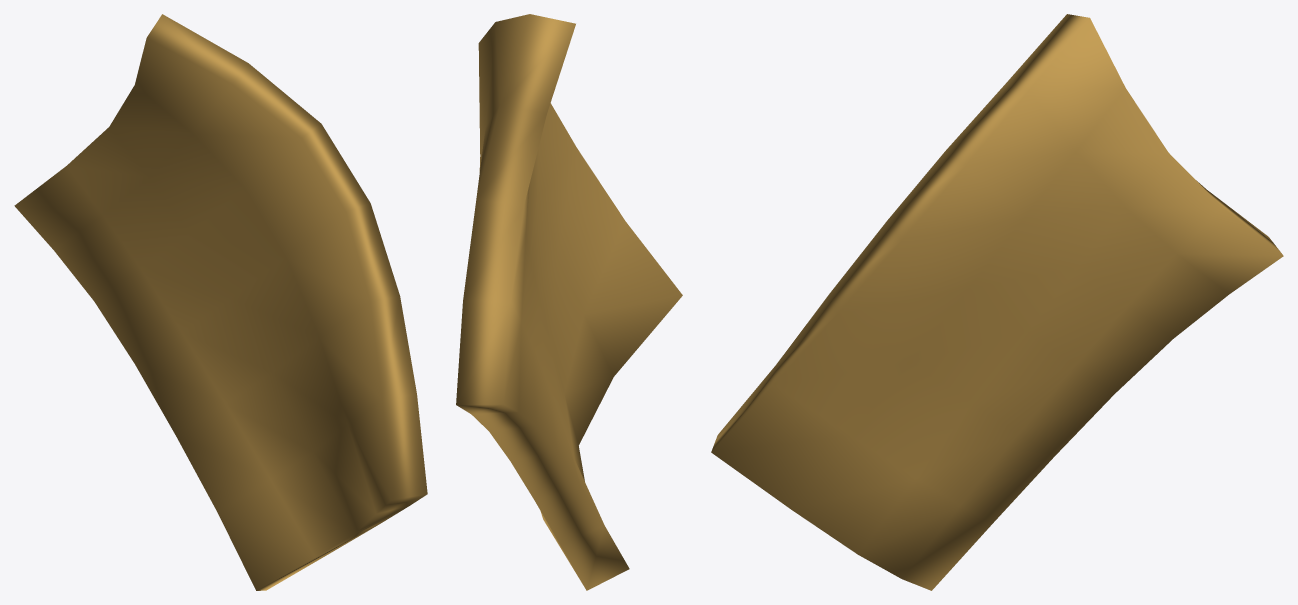
The picture shows the model from 3 angles, left to right: view 1: azimuth 30°, elevation 25°; view 2: azimuth 150°, elevation 25°; view 3: azimuth 270°, elevation 25°; orthographic projection. The views are drawn at different scales.
Visible parts, largest first — view 1: 左侧胸锁后韧带; view 2: 左侧胸锁后韧带; view 3: 左侧胸锁后韧带.
Boxes of the visible parts, x1,y1,x2,y2 form: 左侧胸锁后韧带: (14, 14, 427, 590); 左侧胸锁后韧带: (456, 14, 682, 590); 左侧胸锁后韧带: (711, 14, 1283, 590).
Bounding box in the file's own units: 0.0119 × 0.033 × 0.0307.
